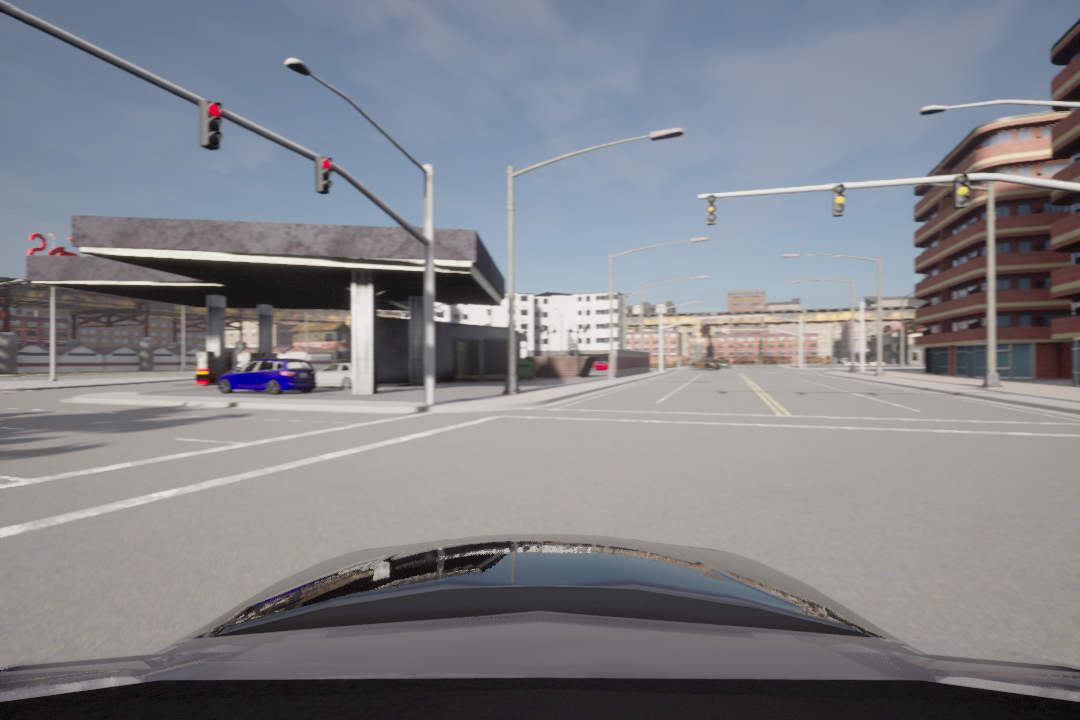TrafficLight: (197, 97, 227, 151), (312, 153, 336, 202), (949, 174, 975, 214), (831, 184, 851, 224), (704, 193, 716, 226)
